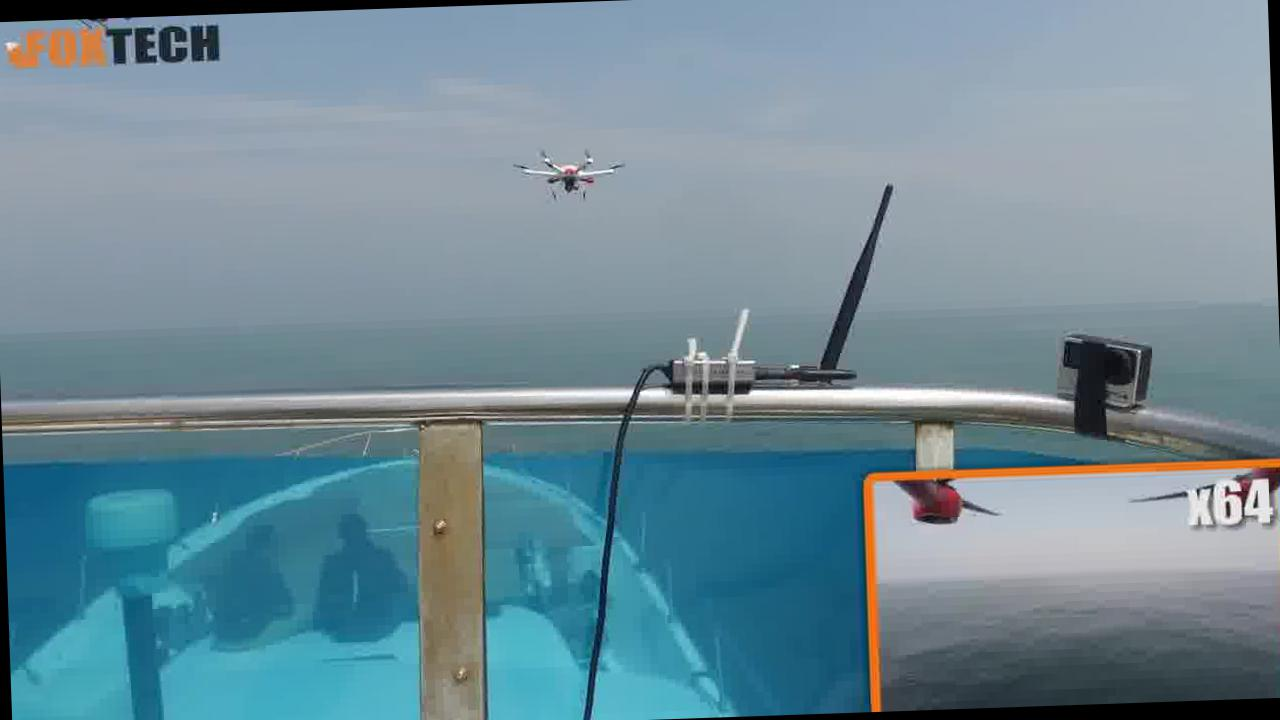drone: (492, 134, 642, 212)
